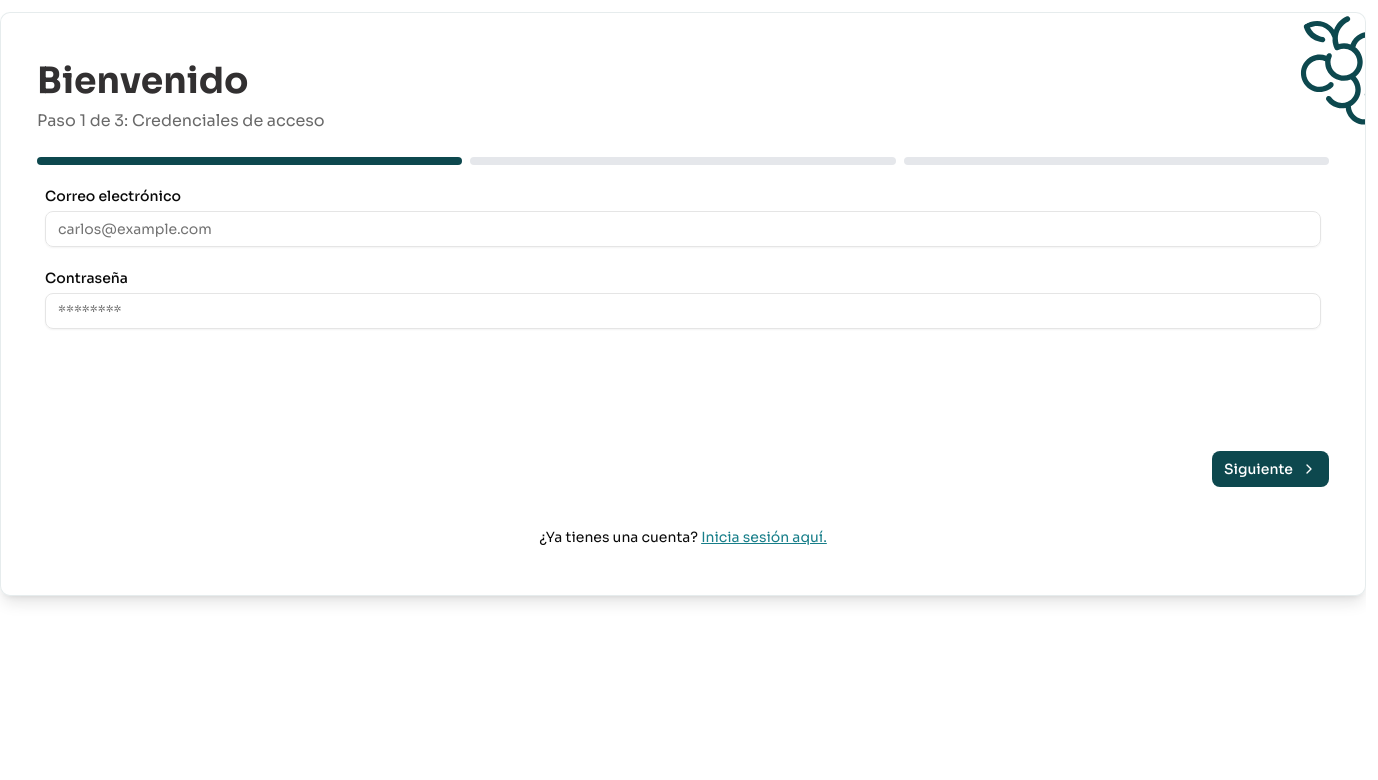
Test: Register › no avanza al paso 2 si el paso 1 es inválido
This screenshot has width=1378, height=780.
Click the button "Siguiente".
click(1270, 469)  # box [1212, 451, 1329, 487]
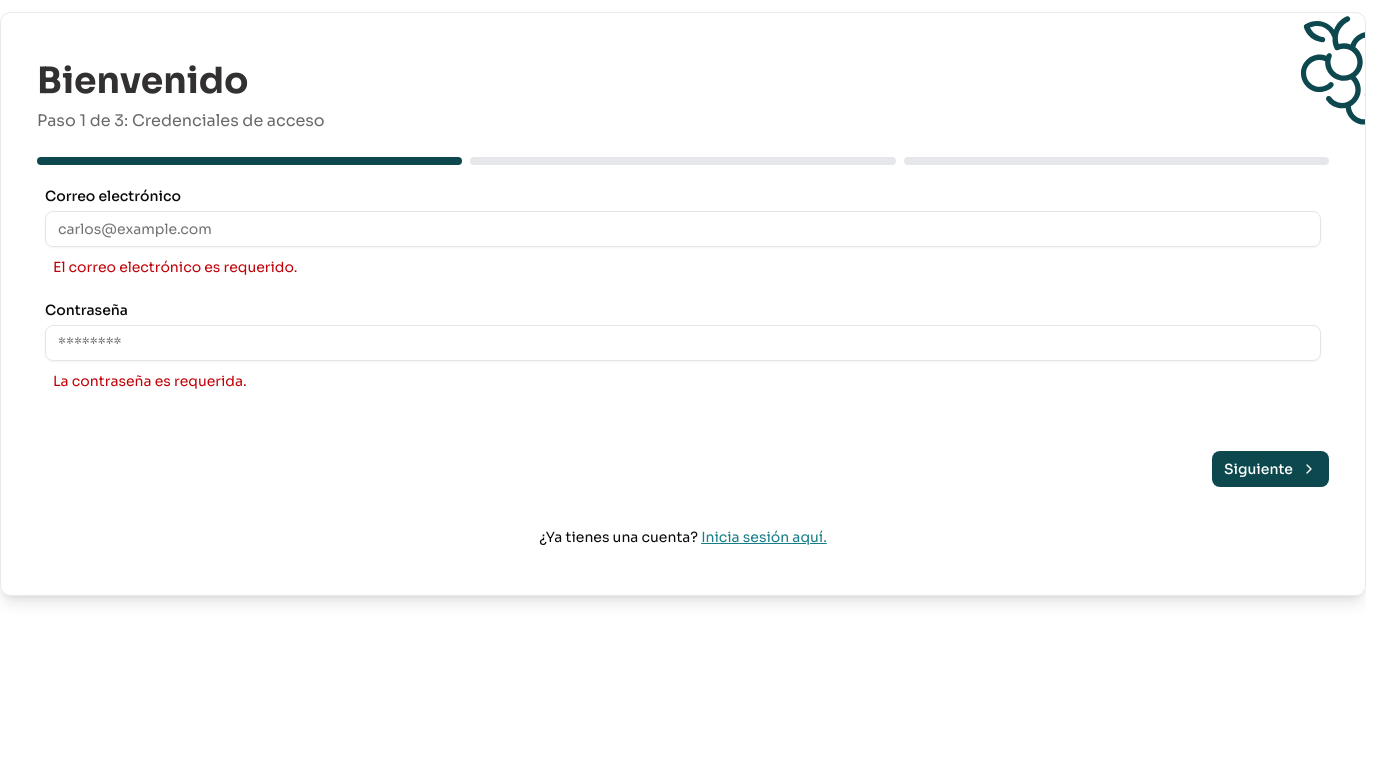
Result: the text "El correo electrónico es requerido." is shown at [53, 258, 297, 276]
